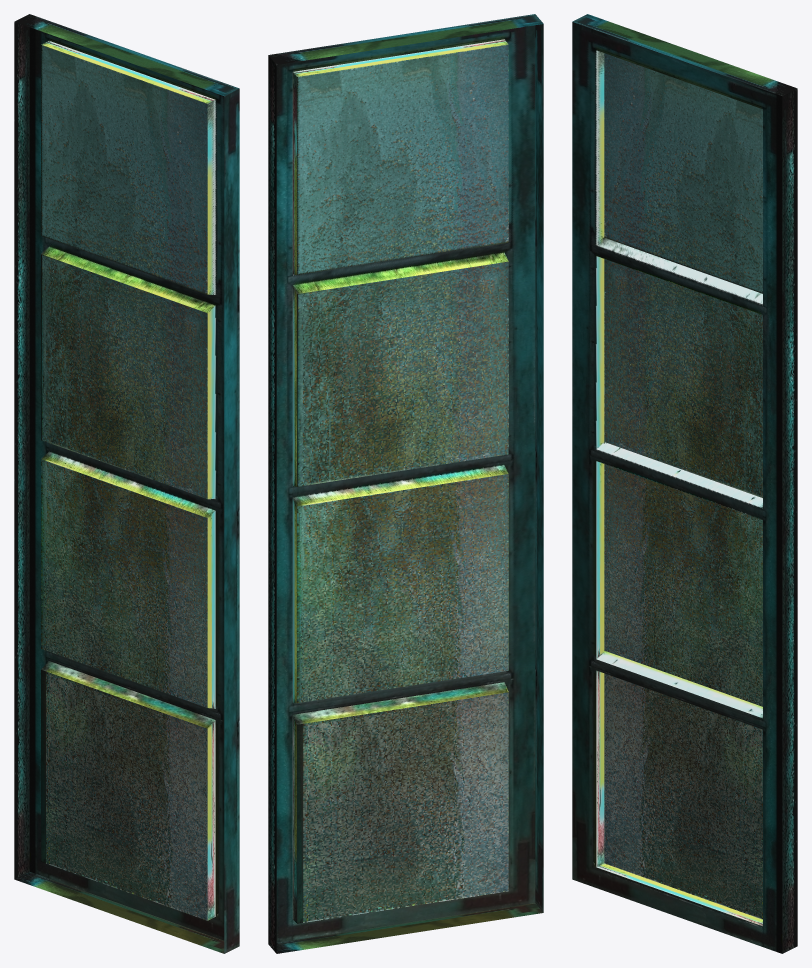
The model's file is ventana1.obj.
3 views of the same model, side by side, from view 1: azimuth 90°, elevation 25°; view 2: azimuth 150°, elevation 25°; view 3: azimuth 270°, elevation 25° (orthographic). The views are drawn at different scales.
Parts seen in each view (by area): view 1: Enter_a_title1:glass pasted__group1 group1, pasted__group1 group1 Enter_a_title1:win_anim; view 2: Enter_a_title1:glass pasted__group1 group1, pasted__group1 group1 Enter_a_title1:win_anim; view 3: Enter_a_title1:glass pasted__group1 group1, pasted__group1 group1 Enter_a_title1:win_anim.
Part boxes in pixels (left/top/right/bottom): Enter_a_title1:glass pasted__group1 group1: left=41, top=44, right=207, bottom=920; pasted__group1 group1 Enter_a_title1:win_anim: left=14, top=14, right=239, bottom=953; Enter_a_title1:glass pasted__group1 group1: left=297, top=44, right=508, bottom=923; pasted__group1 group1 Enter_a_title1:win_anim: left=268, top=14, right=543, bottom=953; Enter_a_title1:glass pasted__group1 group1: left=604, top=53, right=762, bottom=919; pasted__group1 group1 Enter_a_title1:win_anim: left=572, top=14, right=797, bottom=953.
Bounding box in the file's own units: 0.3195 × 1.55 × 0.3701.
Materials: 2 (2 with a texture image).
